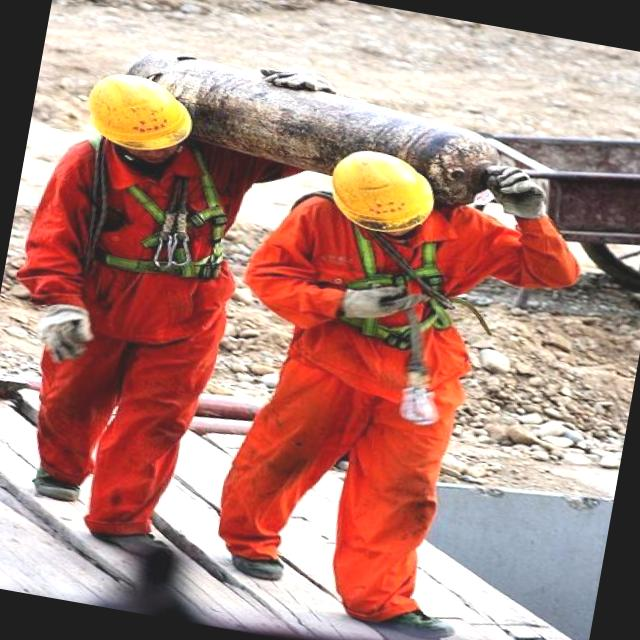helmet: (316, 140, 450, 248), (78, 62, 204, 166)
vest: (244, 211, 493, 418), (40, 144, 246, 382)
